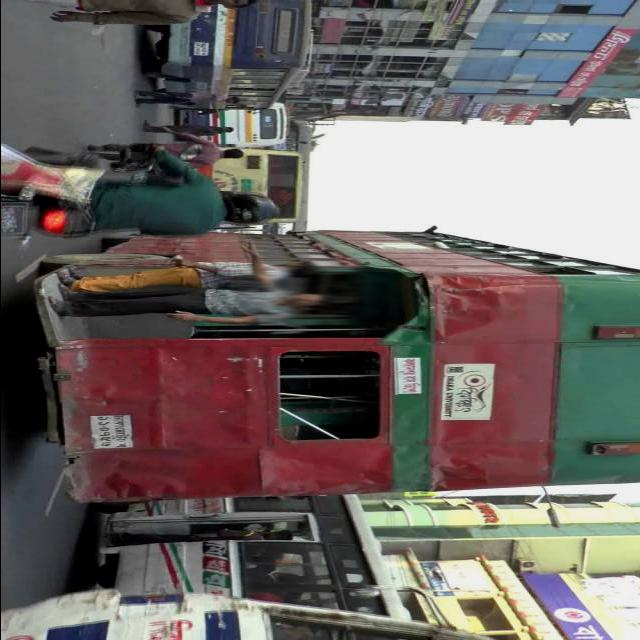bus: (29, 231, 638, 505), (91, 497, 413, 622), (6, 591, 500, 640)
